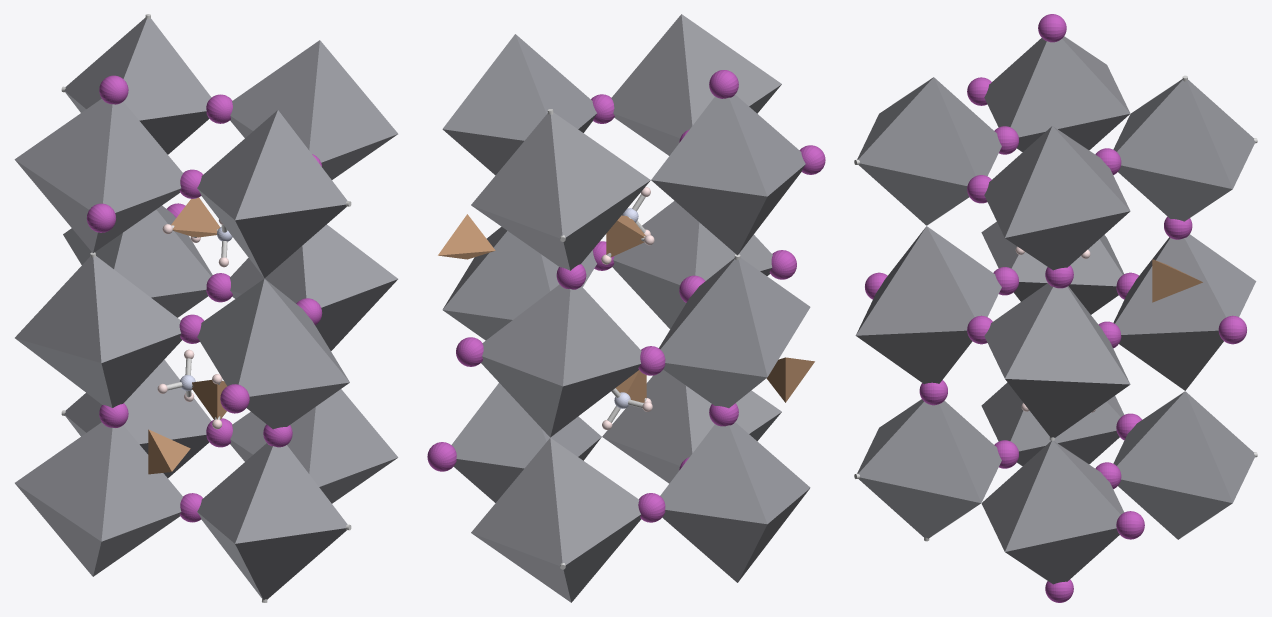
File: CH3NH3PbI3_wrl_GLB-Convert.glb
3 views of the same model, side by side, from view 1: azimuth 30°, elevation 25°; view 2: azimuth 150°, elevation 25°; view 3: azimuth 270°, elevation 25° (orthographic). The views are drawn at different scales.
Parts seen in each view (by area): view 1: Shape_IndexedFaceSet.059, Shape_IndexedFaceSet.091, Shape_IndexedFaceSet.107, Shape_IndexedFaceSet.031, Shape_IndexedFaceSet.023, Shape_IndexedFaceSet.035, Shape_IndexedFaceSet.019, Shape_IndexedFaceSet.027, Shape_IndexedFaceSet.083, Shape_IndexedFaceSet.051, Shape_IndexedFaceSet.067, Shape_IndexedFaceSet.043 (+46 smaller); view 2: Shape_IndexedFaceSet.070, Shape_IndexedFaceSet.087, Shape_IndexedFaceSet.022, Shape_IndexedFaceSet.103, Shape_IndexedFaceSet.030, Shape_IndexedFaceSet.101, Shape_IndexedFaceSet.085, Shape_IndexedFaceSet.038, Shape_IndexedFaceSet.093, Shape_IndexedFaceSet.078, Shape_IndexedFaceSet.053, Shape_IndexedFaceSet.109 (+44 smaller); view 3: Shape_IndexedFaceSet.074, Shape_IndexedFaceSet.057, Shape_IndexedFaceSet.034, Shape_IndexedFaceSet.042, Shape_IndexedFaceSet.097, Shape_IndexedFaceSet.089, Shape_IndexedFaceSet.081, Shape_IndexedFaceSet.105, Shape_IndexedFaceSet.018, Shape_IndexedFaceSet.049, Shape_IndexedFaceSet.072, Shape_IndexedFaceSet.056 (+36 smaller).
Boxes of the visible parts, x1,y1,x2,y2 form: Shape_IndexedFaceSet.059: [238, 278, 349, 396]; Shape_IndexedFaceSet.091: [235, 110, 347, 220]; Shape_IndexedFaceSet.107: [235, 445, 347, 543]; Shape_IndexedFaceSet.031: [15, 422, 112, 541]; Shape_IndexedFaceSet.023: [15, 99, 112, 209]; Shape_IndexedFaceSet.035: [309, 40, 397, 162]; Shape_IndexedFaceSet.019: [103, 101, 183, 212]; Shape_IndexedFaceSet.027: [101, 425, 182, 541]; Shape_IndexedFaceSet.083: [123, 18, 211, 120]; Shape_IndexedFaceSet.051: [114, 209, 210, 297]; Shape_IndexedFaceSet.067: [93, 256, 180, 362]; Shape_IndexedFaceSet.043: [309, 389, 398, 486]; Shape_IndexedFaceSet.070: [660, 259, 767, 377]; Shape_IndexedFaceSet.087: [550, 112, 650, 237]; Shape_IndexedFaceSet.022: [651, 96, 767, 196]; Shape_IndexedFaceSet.103: [550, 438, 640, 564]; Shape_IndexedFaceSet.030: [660, 424, 767, 523]; Shape_IndexedFaceSet.101: [471, 438, 562, 565]; Shape_IndexedFaceSet.085: [471, 113, 562, 238]; Shape_IndexedFaceSet.038: [442, 34, 546, 140]; Shape_IndexedFaceSet.093: [611, 14, 692, 137]; Shape_IndexedFaceSet.078: [442, 231, 550, 319]; Shape_IndexedFaceSet.053: [482, 284, 570, 386]; Shape_IndexedFaceSet.109: [602, 369, 692, 465]; Shape_IndexedFaceSet.074: [1005, 287, 1130, 384]; Shape_IndexedFaceSet.057: [856, 226, 974, 335]; Shape_IndexedFaceSet.034: [1005, 126, 1129, 237]; Shape_IndexedFaceSet.042: [1005, 440, 1120, 551]; Shape_IndexedFaceSet.097: [1117, 391, 1232, 503]; Shape_IndexedFaceSet.089: [858, 77, 975, 185]; Shape_IndexedFaceSet.081: [1117, 80, 1232, 189]; Shape_IndexedFaceSet.105: [858, 401, 980, 502]; Shape_IndexedFaceSet.018: [1010, 39, 1129, 137]; Shape_IndexedFaceSet.049: [1115, 238, 1225, 334]; Shape_IndexedFaceSet.072: [1005, 379, 1129, 437]; Shape_IndexedFaceSet.056: [856, 330, 972, 384].
Size of the model in its own units: 13.83 by 20.42 by 15.03.
